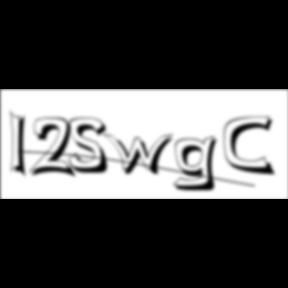2: (30, 117, 80, 181)
C: (224, 115, 278, 178)
S: (69, 117, 115, 176)
g: (173, 134, 225, 194)
l: (11, 108, 34, 182)
w: (102, 132, 180, 178)
